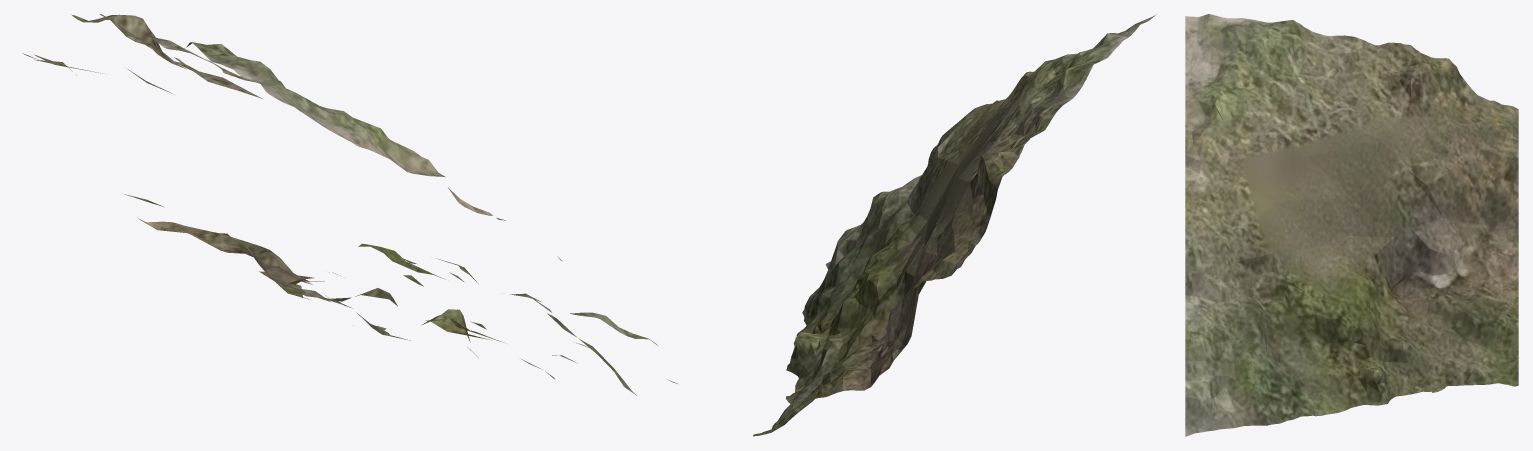
The picture shows the model from 3 angles, left to right: view 1: azimuth 30°, elevation 25°; view 2: azimuth 150°, elevation 25°; view 3: azimuth 270°, elevation 25°; orthographic projection. The views are drawn at different scales.
Size of the model in its own units: 2.89 by 2.78 by 2.95.
3 materials, 3 textured.
